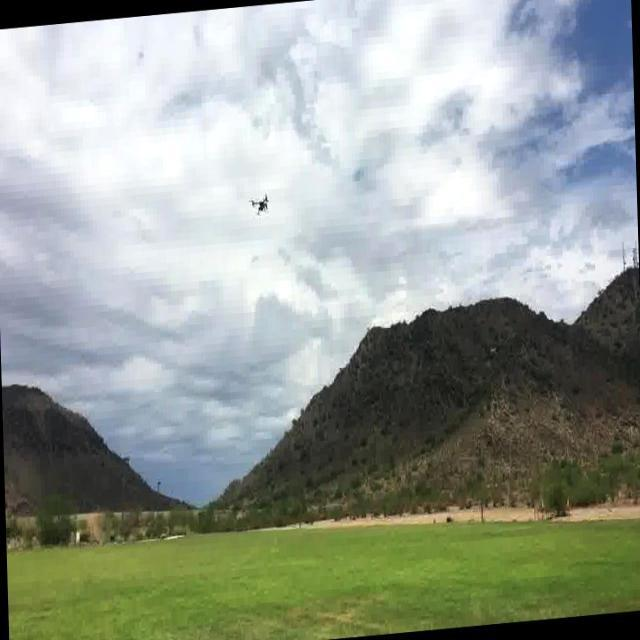drone: (250, 191, 270, 214)
